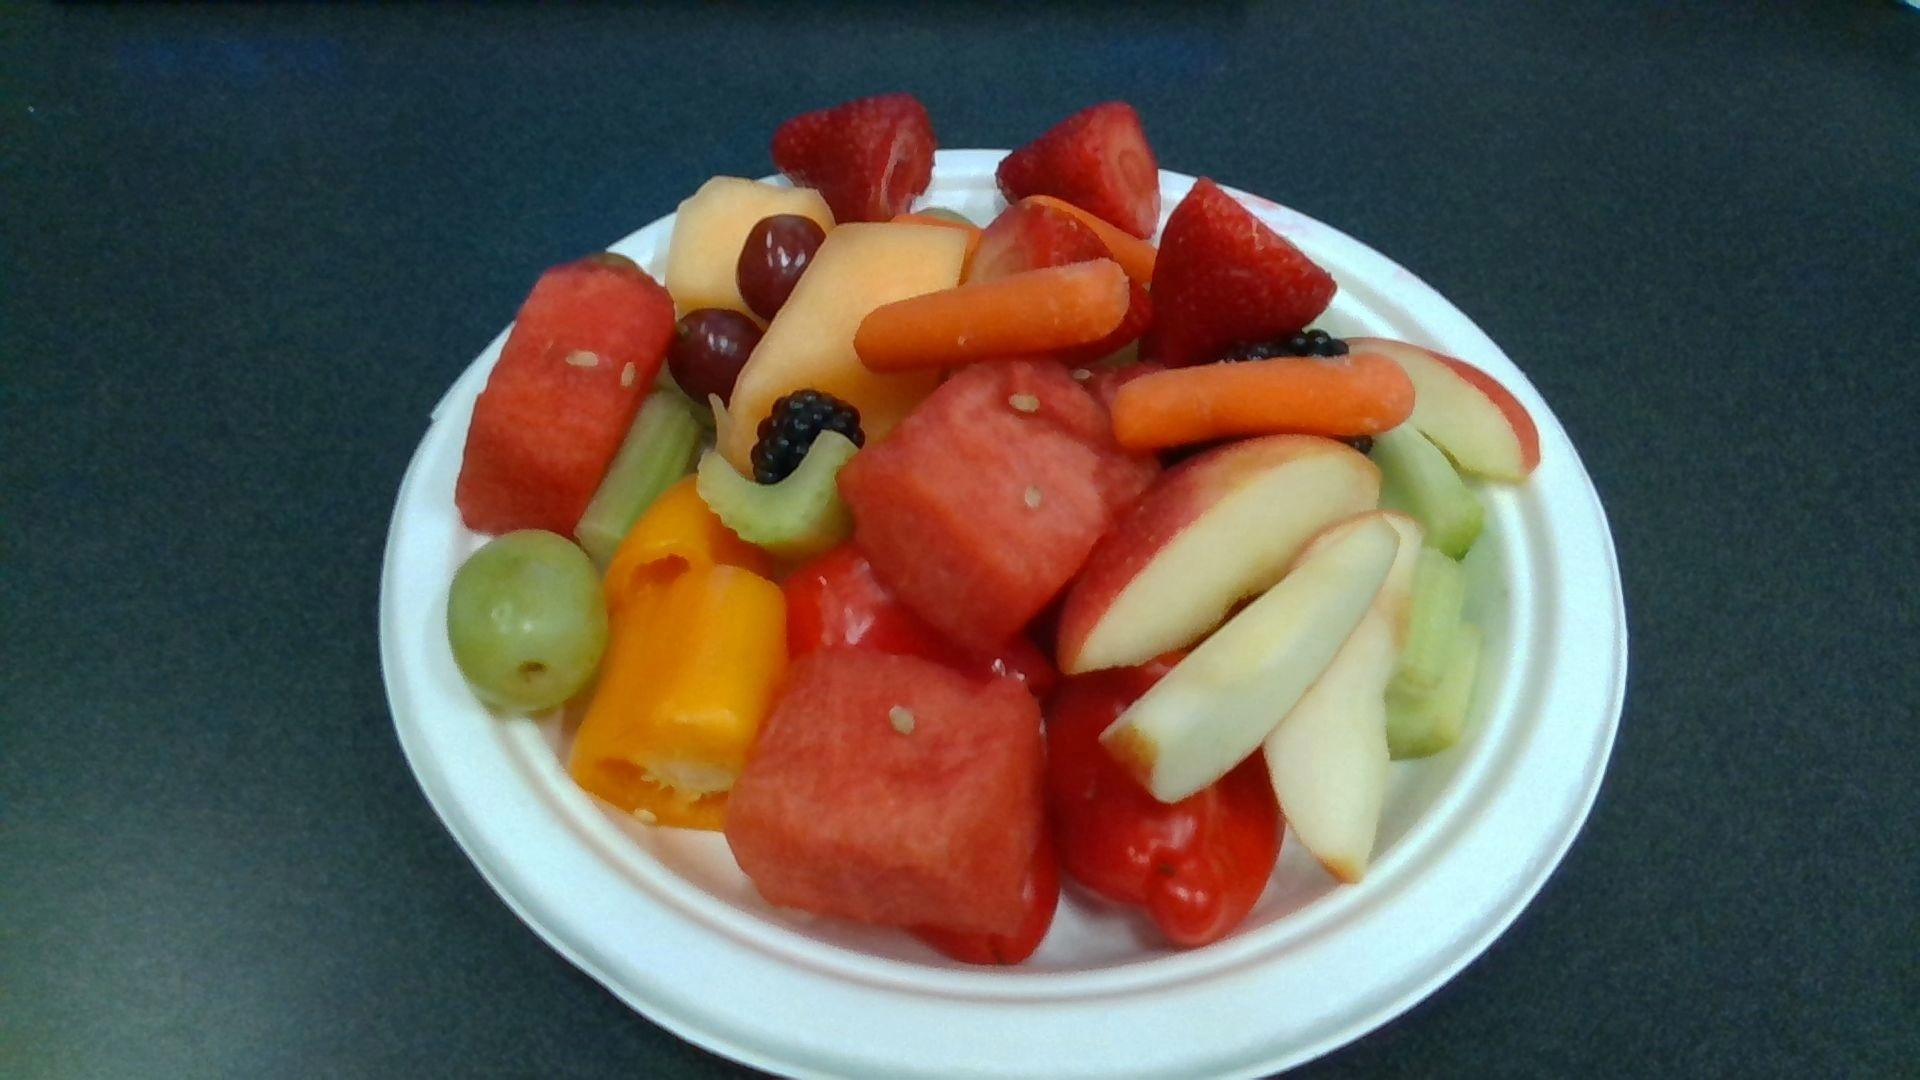apple: (1100, 516, 1402, 800), (1058, 435, 1382, 673), (1259, 513, 1420, 880), (1327, 338, 1539, 471)
bell_pepper: (1048, 655, 1282, 945), (568, 566, 787, 829)
cantalope: (727, 222, 963, 468), (670, 179, 829, 324)
carrot: (1114, 355, 1415, 451), (858, 260, 1127, 365)
grape_green: (448, 530, 607, 711)
grape_purple: (738, 215, 825, 315)
melon: (839, 357, 1156, 636), (727, 651, 1044, 923), (458, 260, 673, 533)
strawberry: (1153, 175, 1337, 356), (996, 100, 1156, 237), (771, 95, 934, 220)
